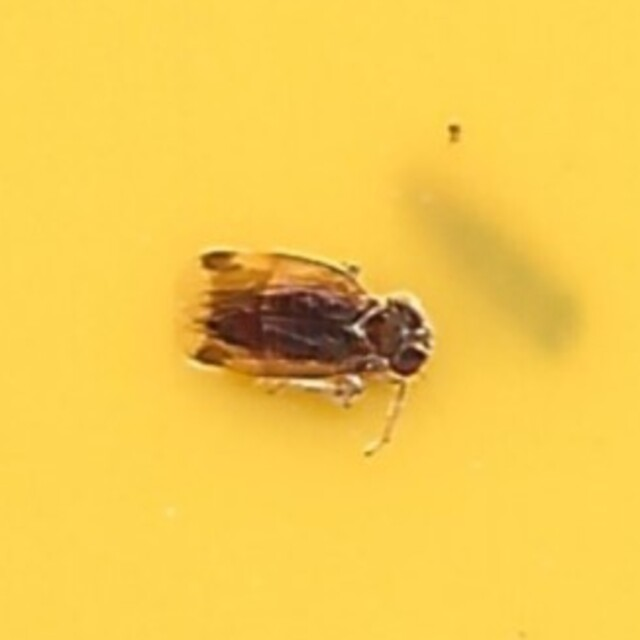Hemiptera: (196, 242, 444, 398)
